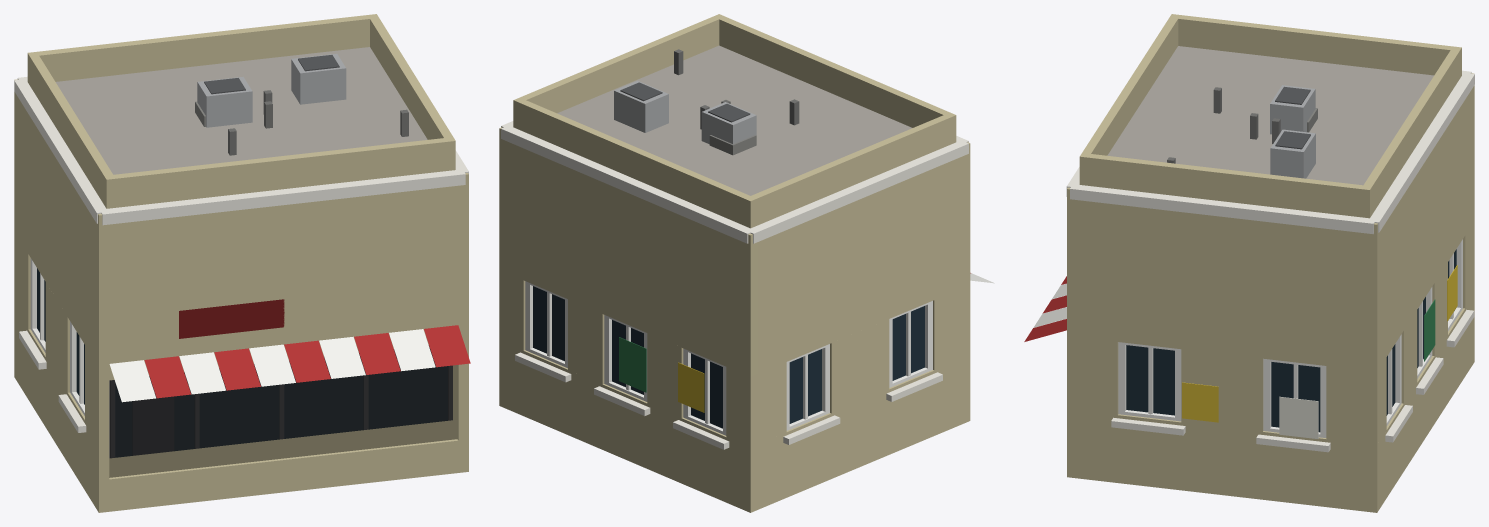
3 renders of one model, left to right at view 1: azimuth 30°, elevation 25°; view 2: azimuth 150°, elevation 25°; view 3: azimuth 270°, elevation 25°, orthographic. The views are drawn at different scales.
Visible parts, largest first — view 1: b10154_opaque, b10154_glass; view 2: b10154_opaque, b10154_glass; view 3: b10154_opaque, b10154_glass.
Boxes of the visible parts, x1,y1,x2,y2 form: b10154_opaque: (14,14,470,512); b10154_glass: (37,268,447,457); b10154_opaque: (499,14,994,512); b10154_glass: (533,286,924,428); b10154_opaque: (1024,14,1474,512); b10154_glass: (1126,249,1456,432).
Size of the model in its own units: 3855 by 3077 by 3909.
